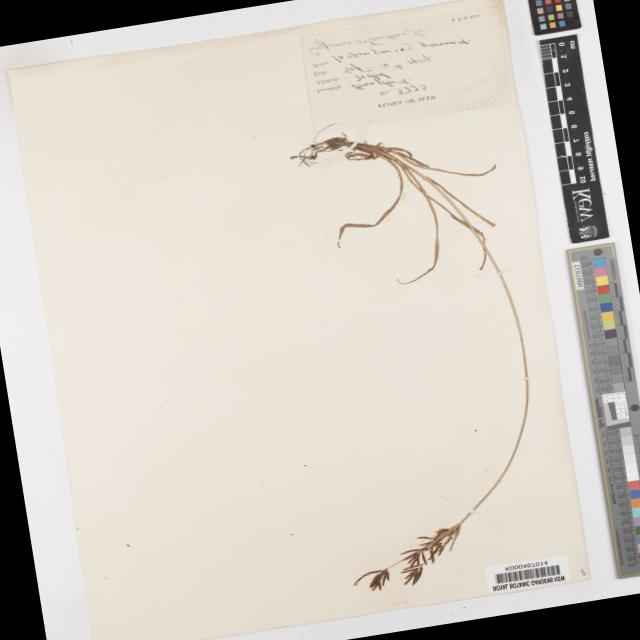cyperus: (338, 511, 479, 606)
